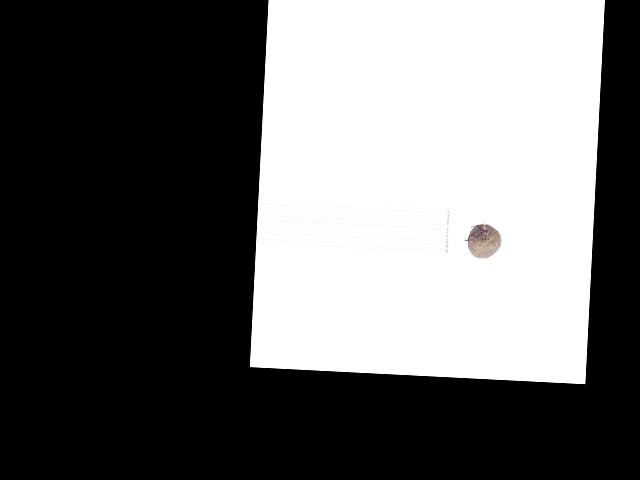beet: (467, 224, 501, 260)
